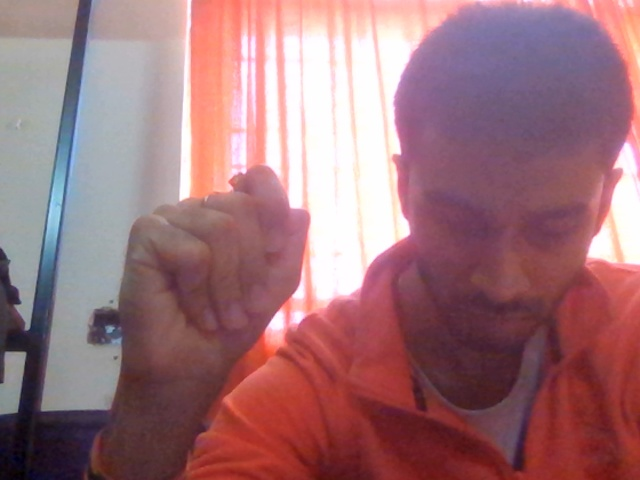T: (80, 141, 357, 456)
